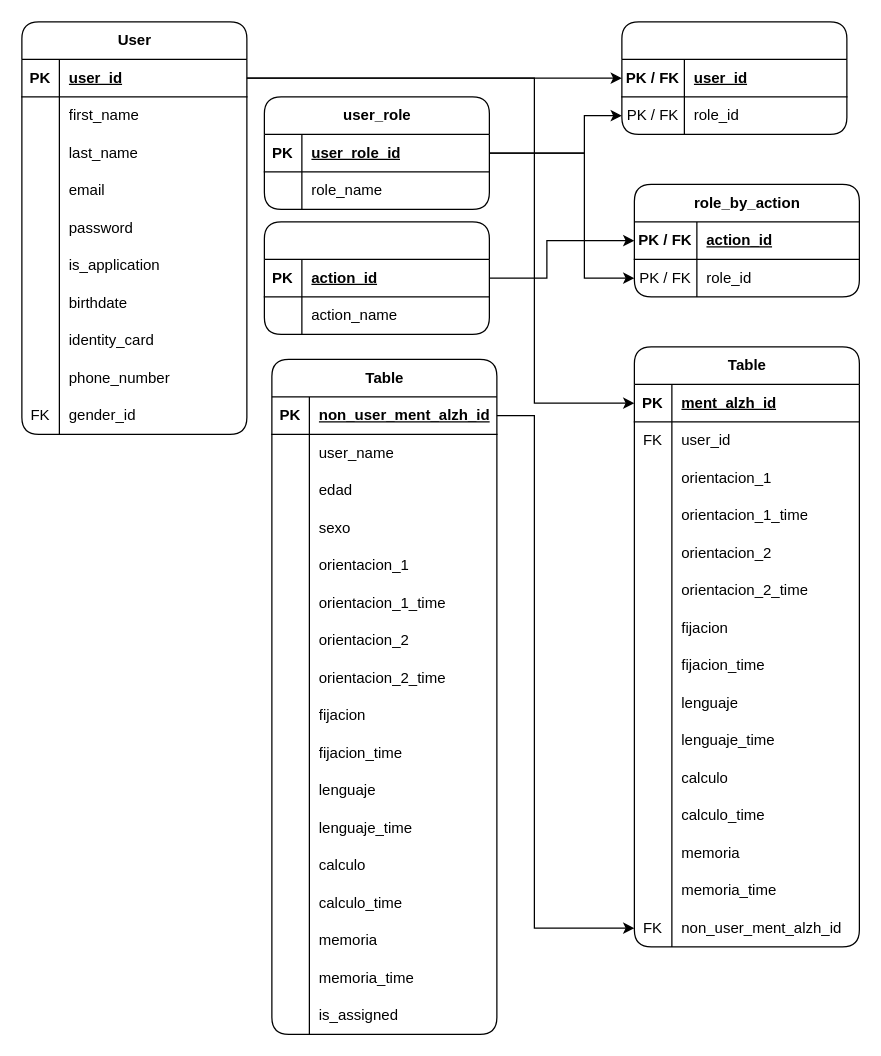
The diagram is 881 pixels wide and 1056 high, and some of its shapes have lost their labels. The shapes that lost their labels are listed below. From the top down, each one's box as (x1, y1, x2, y2) in pixels, then its label:
(621, 21, 847, 134): user_by_role
(263, 221, 489, 334): actions
